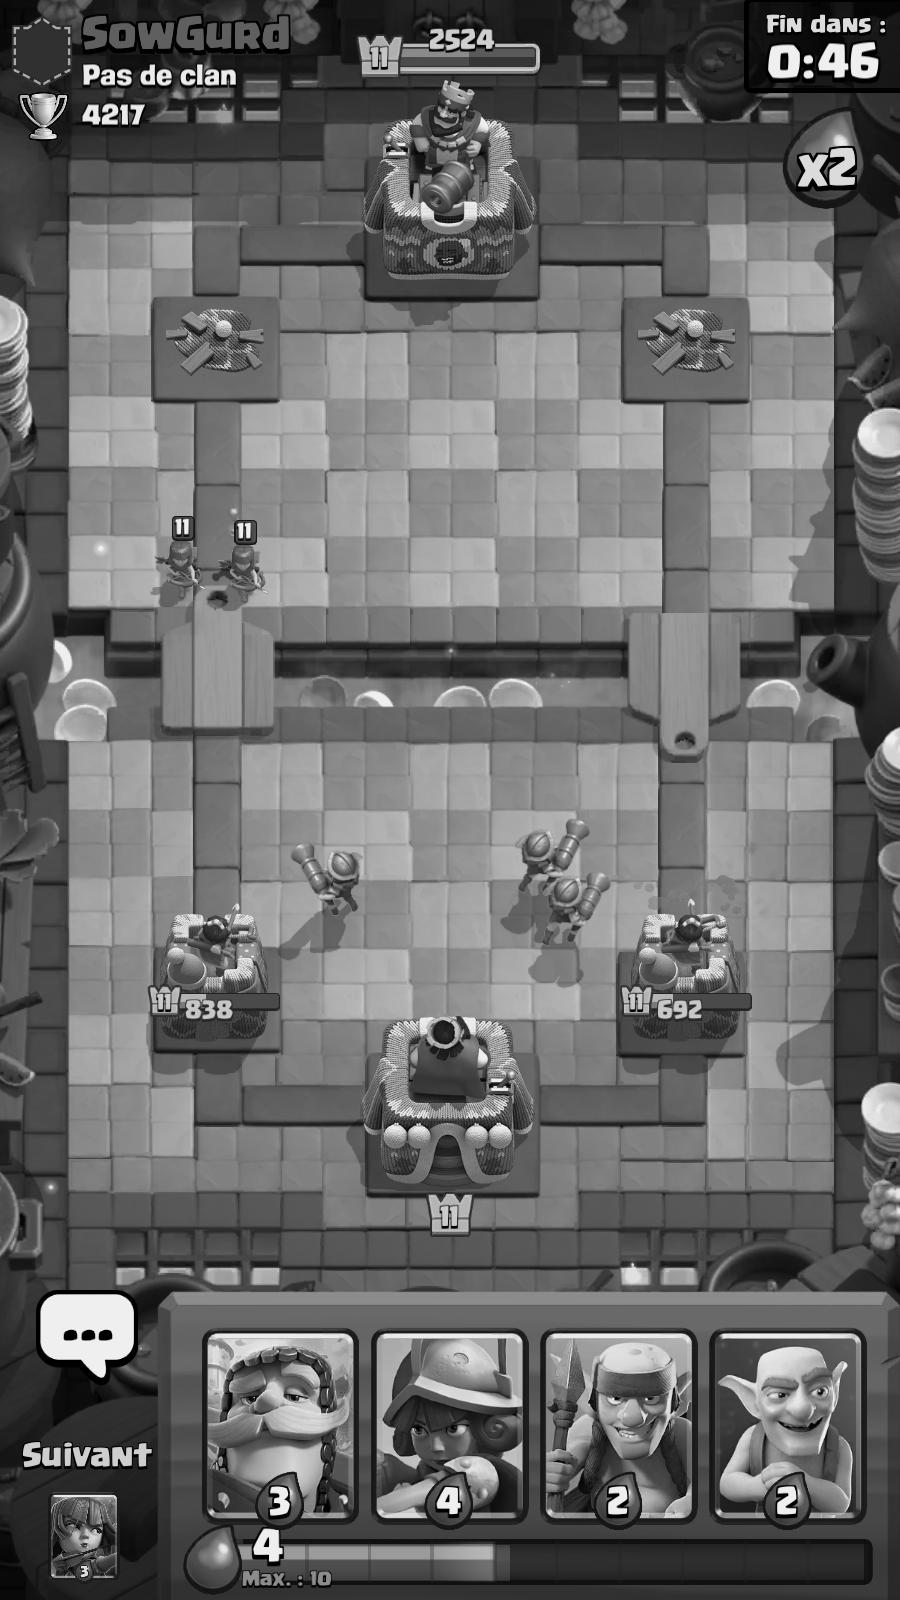archere: (157, 511, 207, 599), (218, 516, 268, 599)
mousquetaire: (513, 815, 593, 895), (287, 835, 364, 918), (548, 870, 608, 946)
